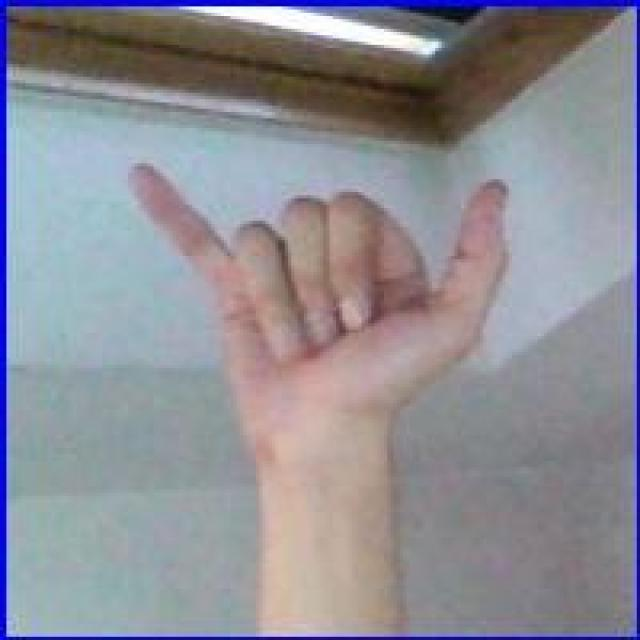Y: (123, 157, 517, 467)
